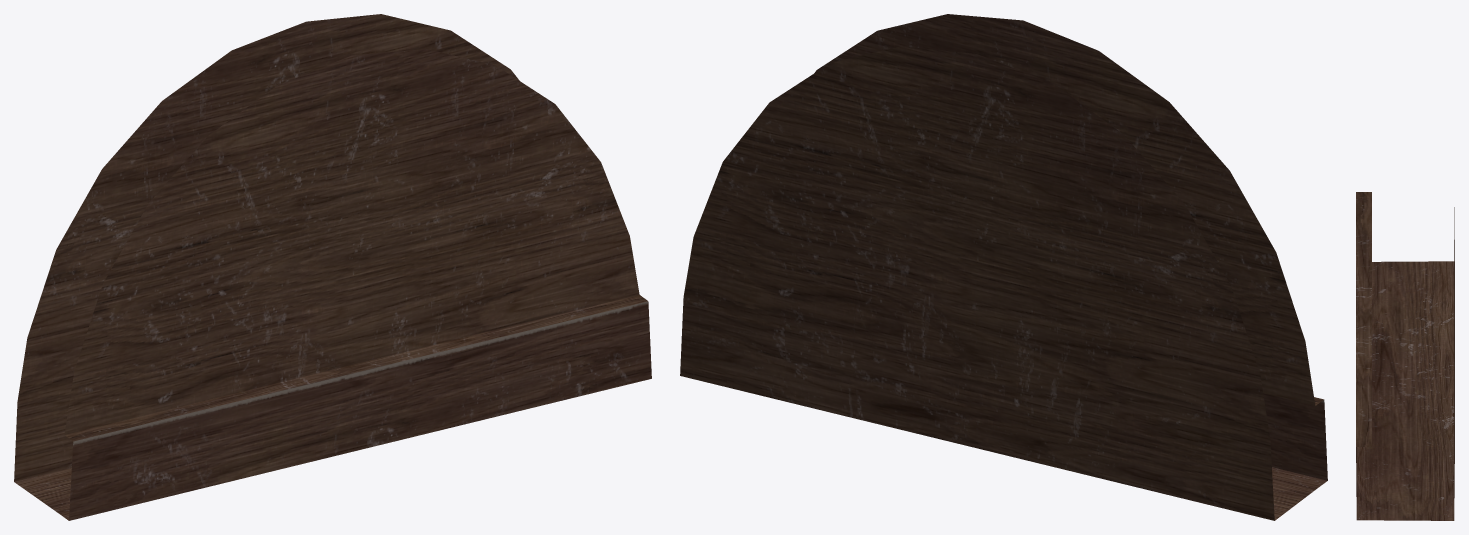
The model's file is ArchesDoubleDoors.fbx.
3 renders of one model, left to right at view 1: azimuth 30°, elevation 25°; view 2: azimuth 150°, elevation 25°; view 3: azimuth 270°, elevation 25°, orthographic. The views are drawn at different scales.
Visible parts, largest first — view 1: ArchesDoubleDoors; view 2: ArchesDoubleDoors; view 3: ArchesDoubleDoors.
Part boxes in pixels (left/top/right/bottom): ArchesDoubleDoors: left=14, top=14, right=651, bottom=520; ArchesDoubleDoors: left=680, top=14, right=1327, bottom=520; ArchesDoubleDoors: left=1356, top=192, right=1454, bottom=520.
Bounding box in the file's own units: 122 × 77.19 × 19.6.
1 material, 1 textured.
